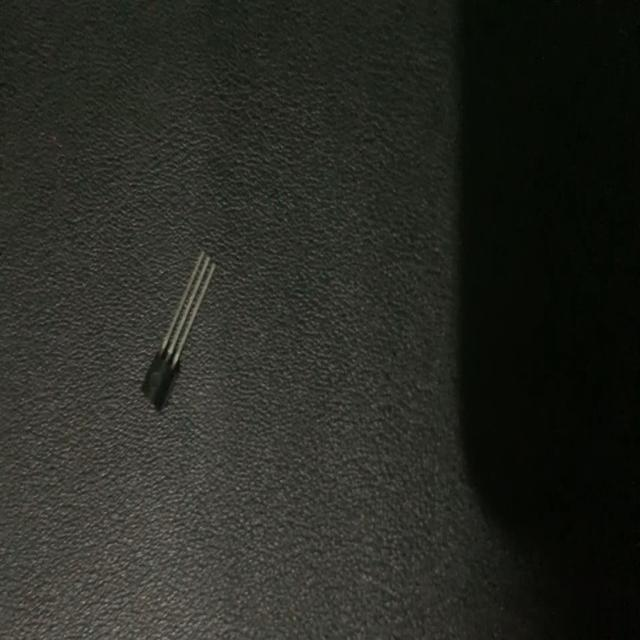BJT: (137, 243, 219, 418)
